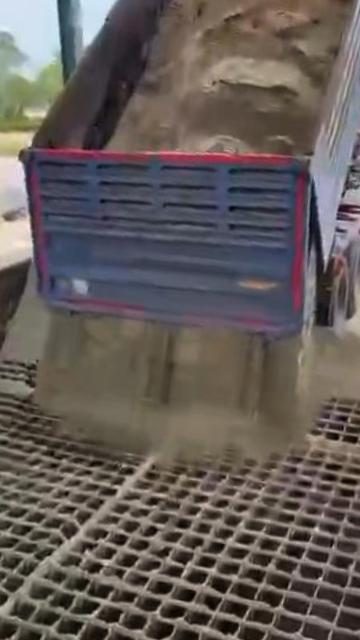sand: (2, 271, 360, 461), (110, 0, 360, 155), (0, 456, 154, 640), (0, 367, 32, 396)
